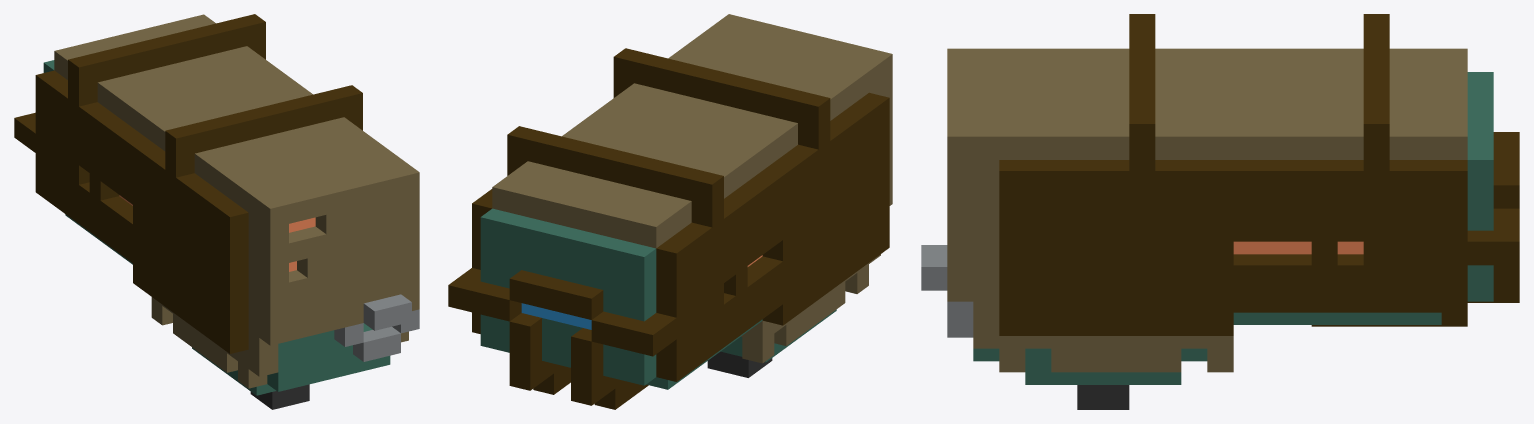
File: Head-0.obj
The picture shows the model from 3 angles, left to right: view 1: azimuth 30°, elevation 25°; view 2: azimuth 150°, elevation 25°; view 3: azimuth 270°, elevation 25°; orthographic projection. The views are drawn at different scales.
Bounding box in the file's own units: 1 × 1.4 × 2.3.
Materials: 1 (1 with a texture image).
